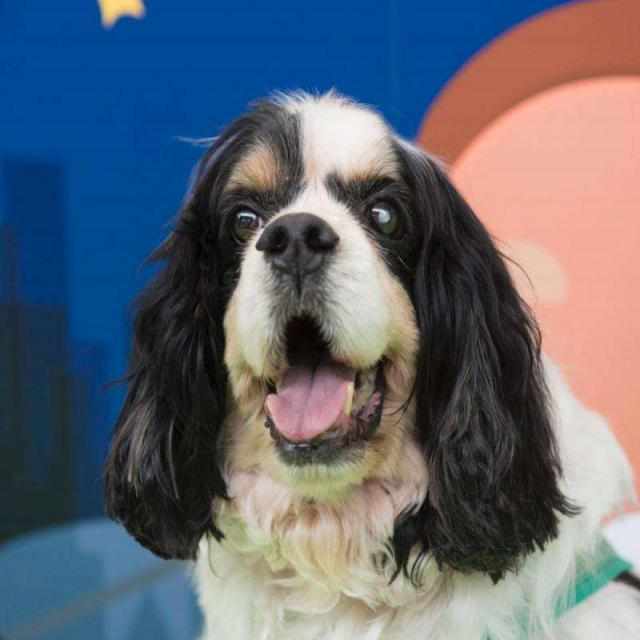eye: (362, 192, 413, 246), (226, 204, 269, 249)
